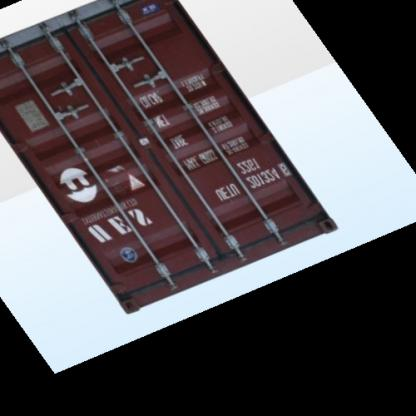Damage: (98, 165, 152, 199), (111, 275, 169, 299)
